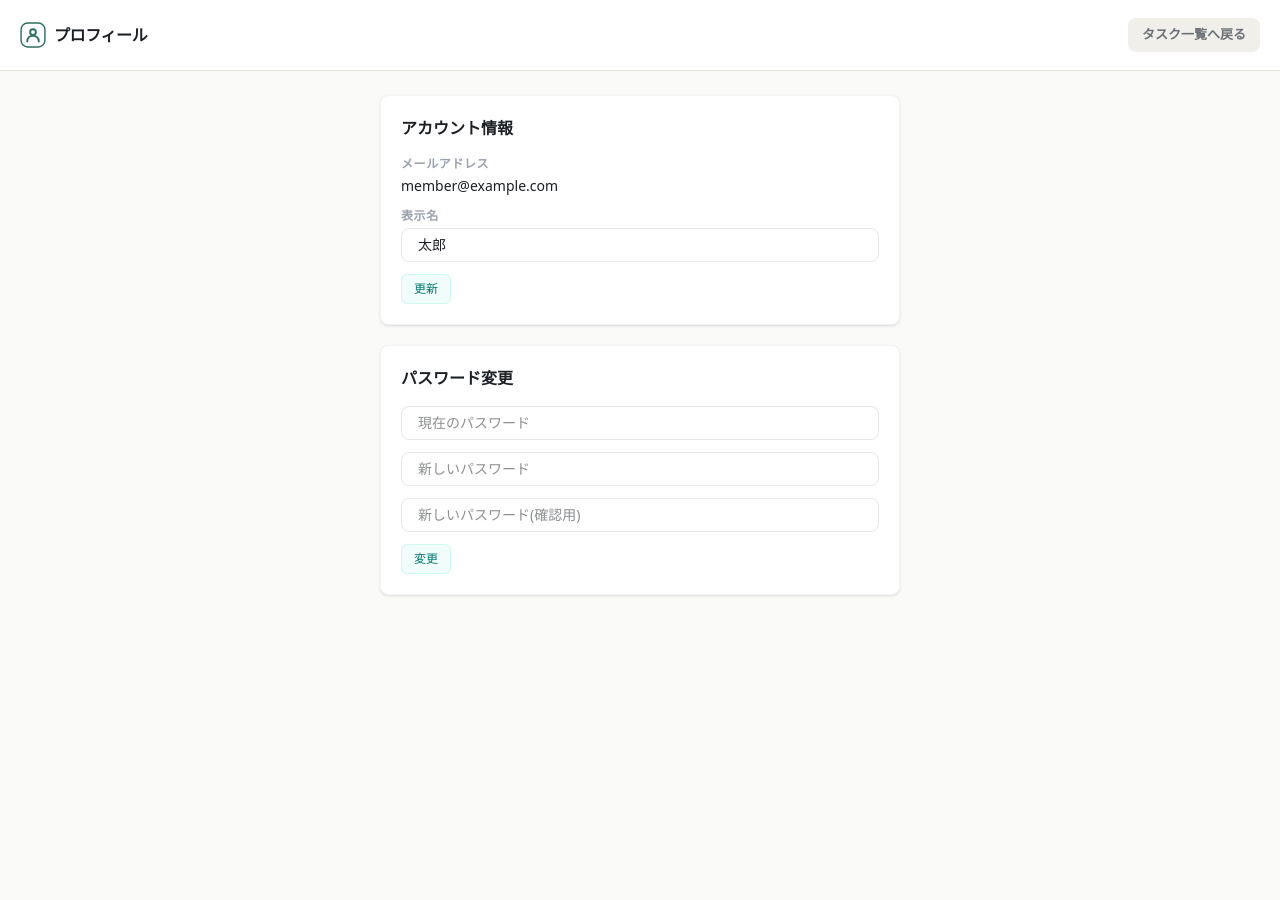
Test case: ProfileForm › 確認用パスワードが新しいパスワードと一致しない場合、APIは呼ばれずエラーメッセージが表示される
The image size is (1280, 900).
Expected: the field showing "太郎" is shown, [401,228,879,262]
Type "oldPass1" into the password field with placeholder "現在のパスワード". click: (640, 422)
box: [401,406,879,440]
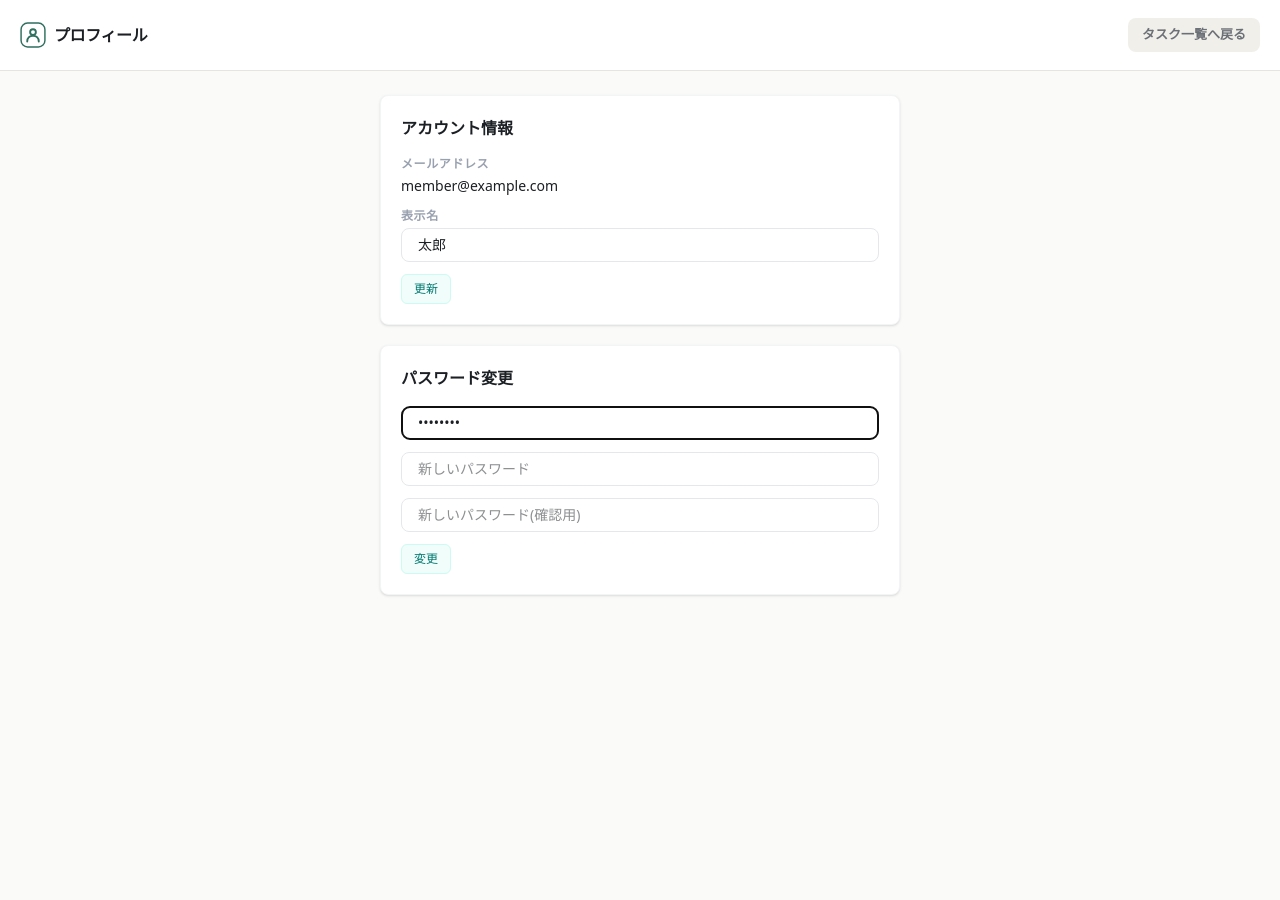
Type "NewPass1" into the password field with placeholder "新しいパスワード". click: (640, 468)
box: [401,452,879,486]
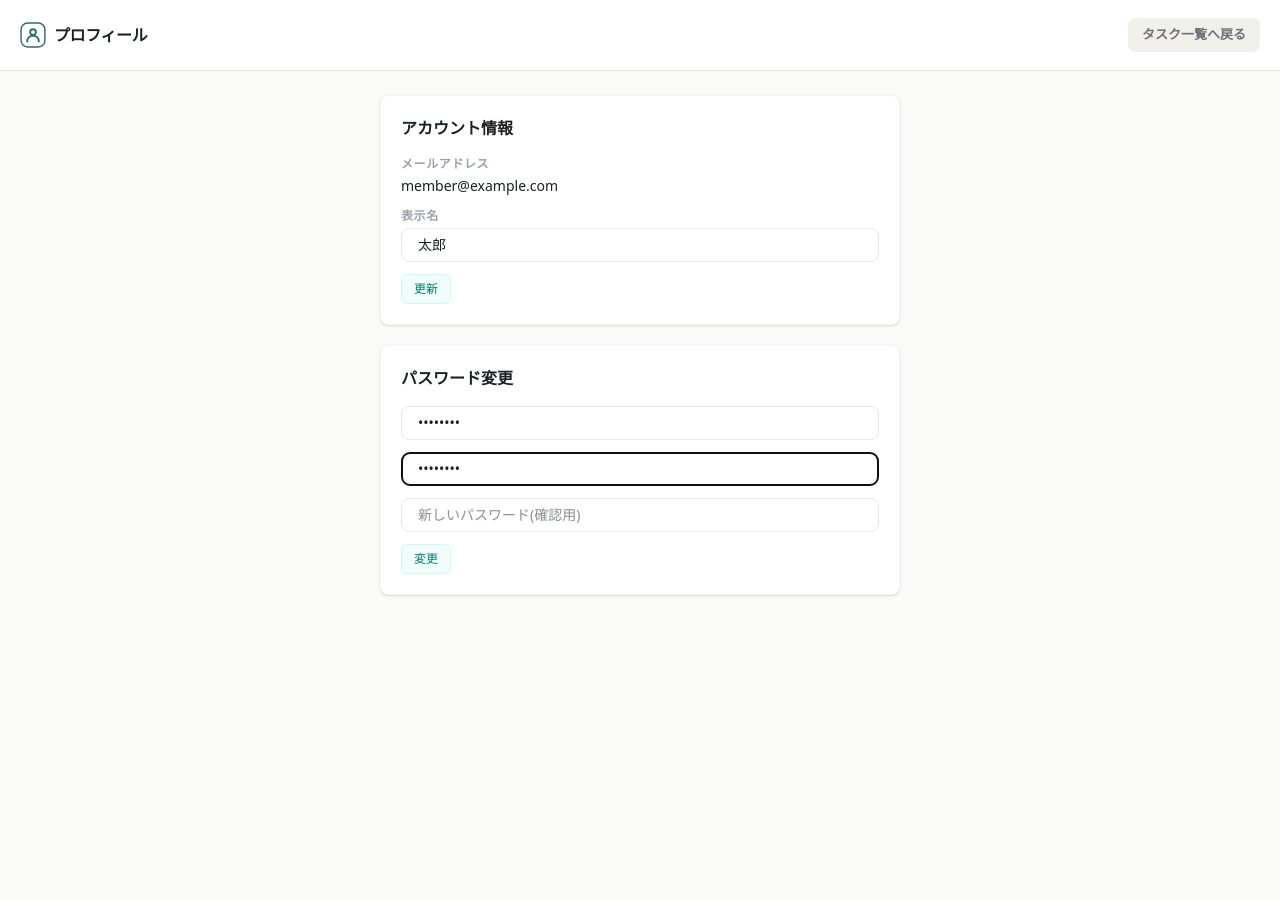
Type "Mismatch1" into the password field with placeholder "新しいパスワード(確認用)". click: (640, 514)
box: [401,498,879,532]
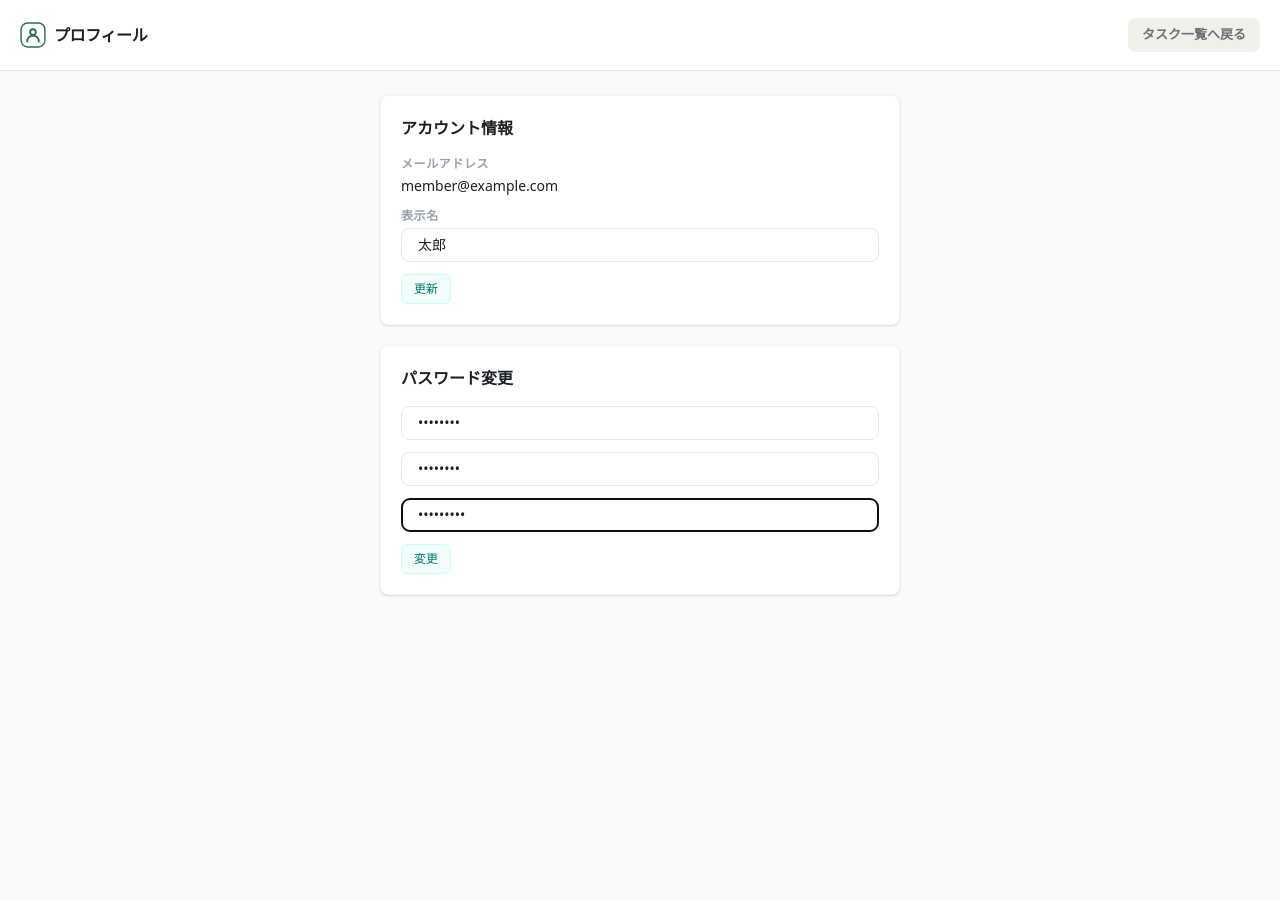
Click the button "変更". click: (426, 558)
box: [401,544,451,574]
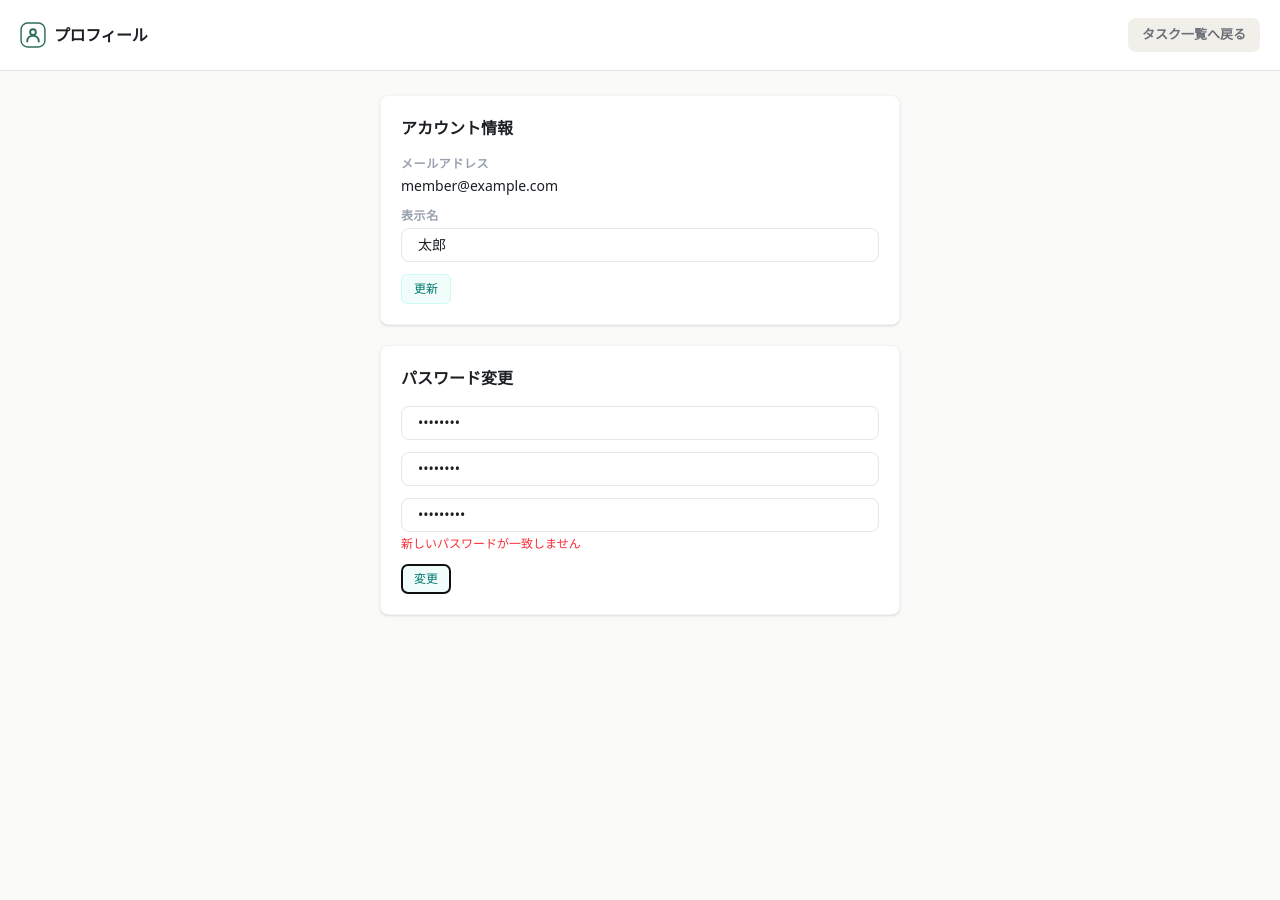
Expected: the text "新しいパスワードが一致しません" is shown, [401,534,581,552]
